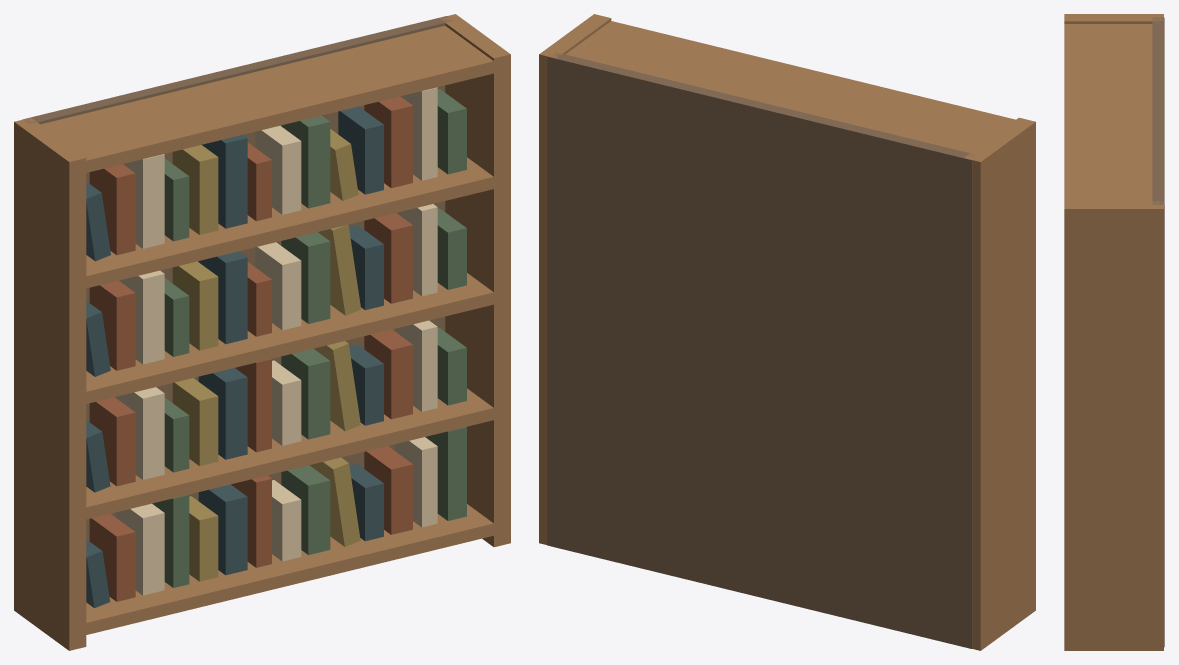
Rendered from bookshelf.glb.
The picture shows the model from 3 angles, left to right: view 1: azimuth 30°, elevation 25°; view 2: azimuth 150°, elevation 25°; view 3: azimuth 270°, elevation 25°; orthographic projection. The views are drawn at different scales.
Bounding box in the file's own units: 2.08 × 2.2 × 0.4525.
